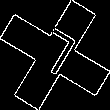L_SW: (29, 26, 81, 84)
